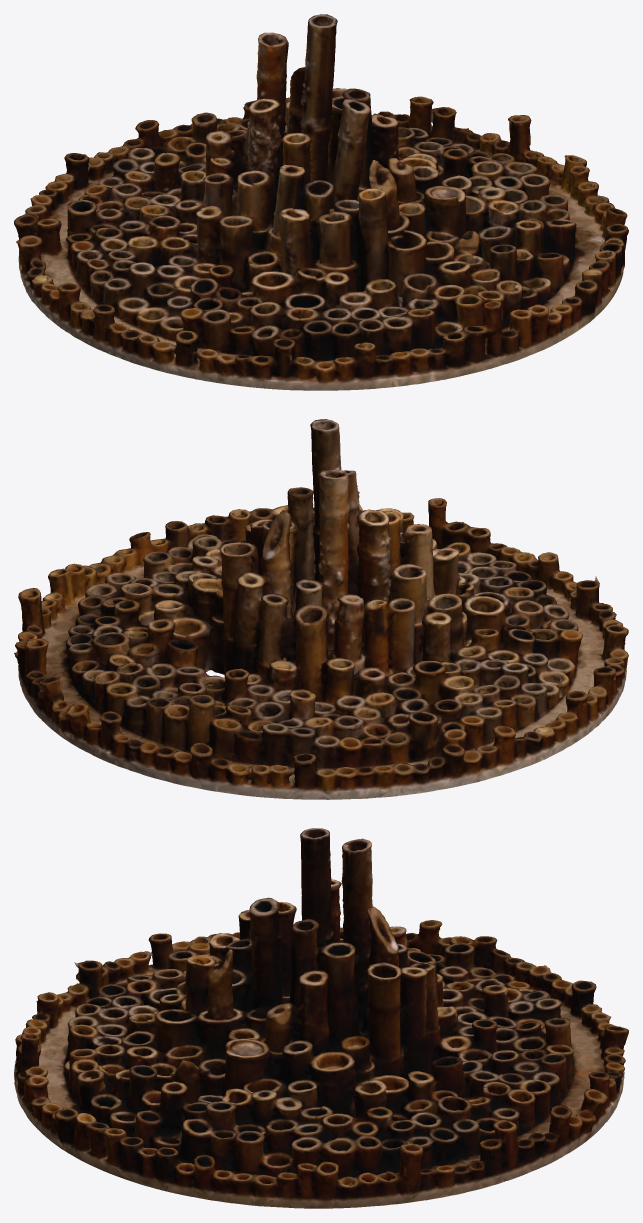
The model's file is NCB.mobile.glb.
3 renders of one model, top to bottom at view 1: azimuth 30°, elevation 25°; view 2: azimuth 150°, elevation 25°; view 3: azimuth 270°, elevation 25°, orthographic.
Parts seen in each view (by area): view 1: Model; view 2: Model; view 3: Model.
Boxes of the visible parts, box(x1,y1,x2,y2) form: Model: box(14, 14, 628, 390); Model: box(14, 419, 628, 799); Model: box(14, 828, 628, 1208).
Size of the model in its own units: 6.96 by 3.07 by 6.93.
Materials: 1 (1 with a texture image).
